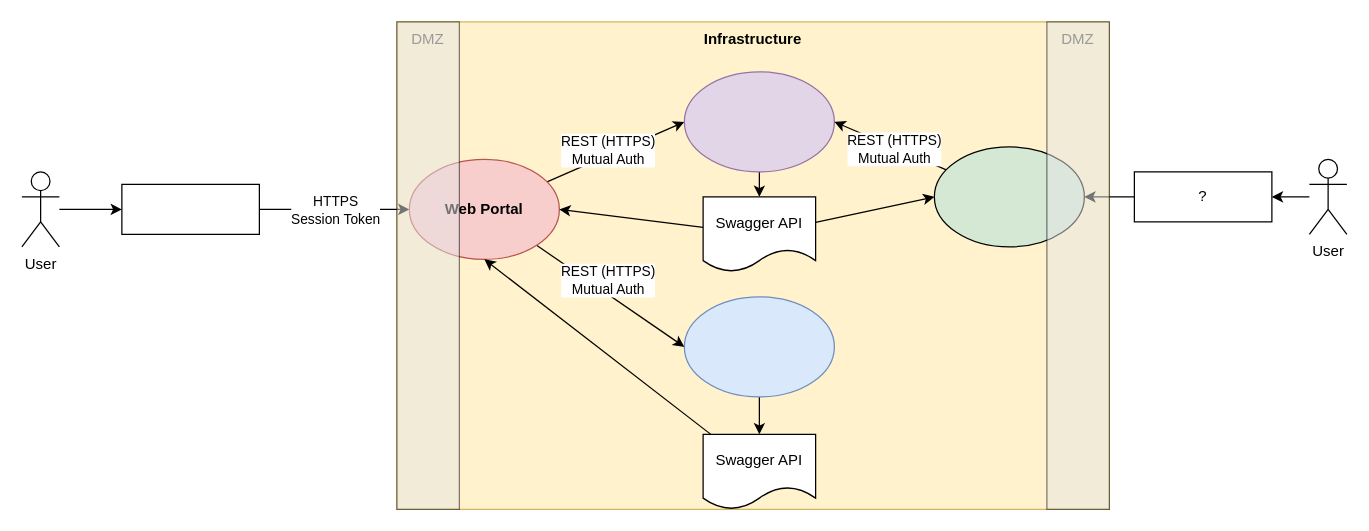
Image size: 1369x531. Some labels were removed from this diagram. Here are the shapes that lost their labels. From the top down, the centre of each, then its label:
At [758,121]: "Document Management".
At [190,208]: "Web Browser".
At [1008,196]: "Custom Client Integration".
At [758,346]: "User Management".
